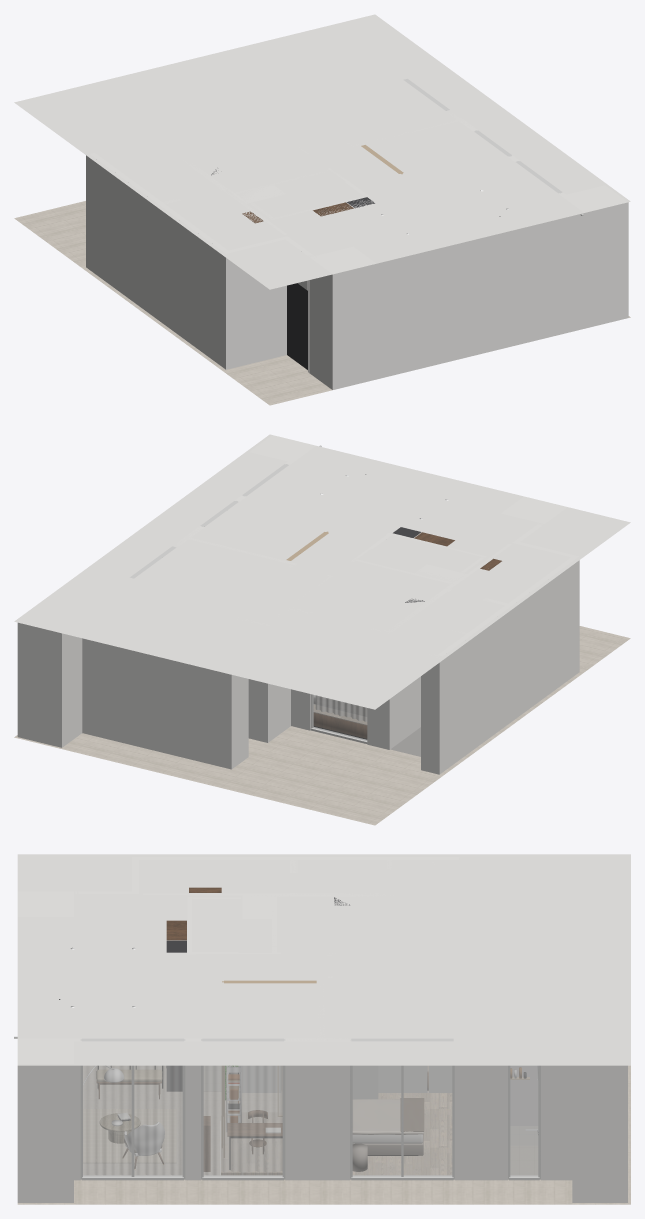
Rendered from apartment_mobile-C-mwA6jm.glb.
3 views of the same model, one above another, from view 1: azimuth 30°, elevation 25°; view 2: azimuth 150°, elevation 25°; view 3: azimuth 270°, elevation 25° (orthographic). The views are drawn at different scales.
Visible parts, largest first — view 1: ceiling, wall_38, wall_10, wall_36, floor_tile, wall_37, wall_33, door_entrance, wall_34; view 2: ceiling, floor_tile, wall_10, wall_1, wall_0, wall_9, win_bedB_glass, wall_14, wall_6, wall_2, wall_12, wall_36 (+5 smaller); view 3: ceiling, floor_tile, win_east3_glass, curtain_east_living, win_east1_glass, wall_37, win_east2_glass, curtain_east_studio, wall_17, wall_0, wall_5, floor_oak_master (+26 smaller).
Boxes of the visible parts, left/top/right/bottom form: ceiling: left=14, top=14, right=630, bottom=289; wall_38: left=377, top=213, right=584, bottom=379; wall_10: left=89, top=152, right=231, bottom=369; wall_36: left=309, top=246, right=376, bottom=389; floor_tile: left=14, top=201, right=630, bottom=405; wall_37: left=566, top=185, right=628, bottom=327; wall_33: left=229, top=236, right=289, bottom=368; door_entrance: left=287, top=283, right=307, bottom=369; wall_34: left=558, top=192, right=589, bottom=328; ceiling: left=14, top=434, right=630, bottom=709; floor_tile: left=14, top=626, right=630, bottom=825; wall_10: left=438, top=555, right=579, bottom=771; wall_1: left=82, top=638, right=234, bottom=769; wall_0: left=17, top=622, right=82, bottom=747; wall_9: left=421, top=653, right=442, bottom=774; win_bedB_glass: left=313, top=695, right=366, bottom=740; wall_14: left=389, top=588, right=450, bottom=746; wall_6: left=219, top=613, right=270, bottom=742; wall_2: left=232, top=648, right=248, bottom=766; wall_12: left=367, top=627, right=392, bottom=749; wall_36: left=501, top=496, right=567, bottom=524; ceiling: left=17, top=854, right=630, bottom=1065; floor_tile: left=17, top=1065, right=630, bottom=1204; win_east3_glass: left=83, top=1066, right=182, bottom=1176; curtain_east_living: left=83, top=1066, right=182, bottom=1174; win_east1_glass: left=353, top=1066, right=451, bottom=1176; wall_37: left=17, top=1041, right=73, bottom=1202; win_east2_glass: left=204, top=1066, right=282, bottom=1176; curtain_east_studio: left=204, top=1066, right=282, bottom=1174; wall_17: left=285, top=1038, right=349, bottom=1180; wall_0: left=572, top=1065, right=627, bottom=1202; wall_5: left=454, top=1039, right=507, bottom=1180; floor_oak_master: left=352, top=1093, right=452, bottom=1175.
Bounding box in the file's own units: 9.79 × 3 × 12.09.
100 materials, 19 textured.
